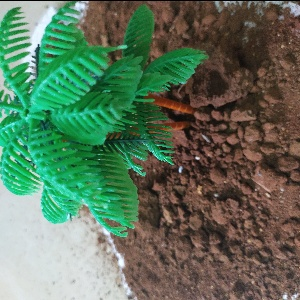plant: (1, 4, 207, 232)
